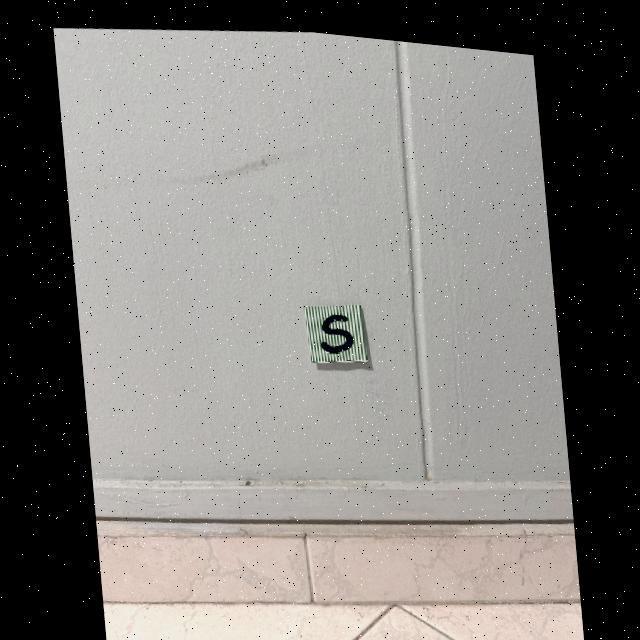S: (320, 307, 353, 345)
